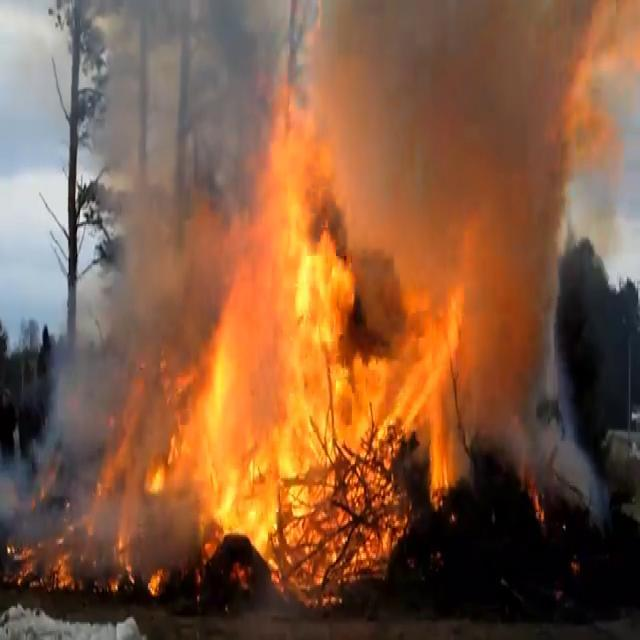fire: (300, 260, 342, 330), (348, 263, 391, 331), (333, 342, 369, 408), (463, 346, 501, 408), (483, 261, 515, 331), (278, 89, 308, 153), (206, 389, 243, 440), (198, 269, 229, 329), (430, 389, 458, 452), (444, 286, 476, 338), (270, 158, 306, 204), (313, 152, 343, 205), (283, 348, 315, 396), (268, 272, 294, 328), (228, 227, 258, 275), (236, 287, 258, 347), (214, 456, 241, 504), (253, 410, 281, 456), (239, 352, 271, 392), (485, 216, 520, 251), (176, 397, 203, 442), (393, 355, 421, 398), (398, 290, 422, 337), (198, 338, 228, 374), (424, 339, 448, 379), (180, 457, 204, 495), (293, 218, 319, 252), (266, 213, 286, 257), (456, 232, 478, 270), (250, 494, 272, 528), (204, 222, 222, 260), (323, 227, 348, 251), (248, 218, 264, 253), (436, 462, 458, 478)
smoke: (58, 358, 102, 441), (228, 74, 266, 137), (128, 259, 166, 318), (426, 135, 464, 188), (188, 130, 220, 191), (216, 22, 252, 76), (104, 108, 138, 160), (206, 106, 236, 164), (349, 1, 377, 61), (320, 17, 346, 81), (385, 85, 411, 139), (163, 186, 188, 242), (132, 213, 162, 259), (141, 497, 175, 537), (382, 12, 405, 69), (422, 74, 449, 118), (458, 69, 482, 118), (453, 7, 475, 50), (423, 9, 440, 58), (562, 440, 580, 480), (588, 466, 604, 508), (546, 250, 562, 287), (260, 14, 276, 50), (3, 481, 18, 519), (541, 358, 555, 392), (542, 305, 552, 343), (33, 447, 47, 472), (28, 523, 46, 539)
